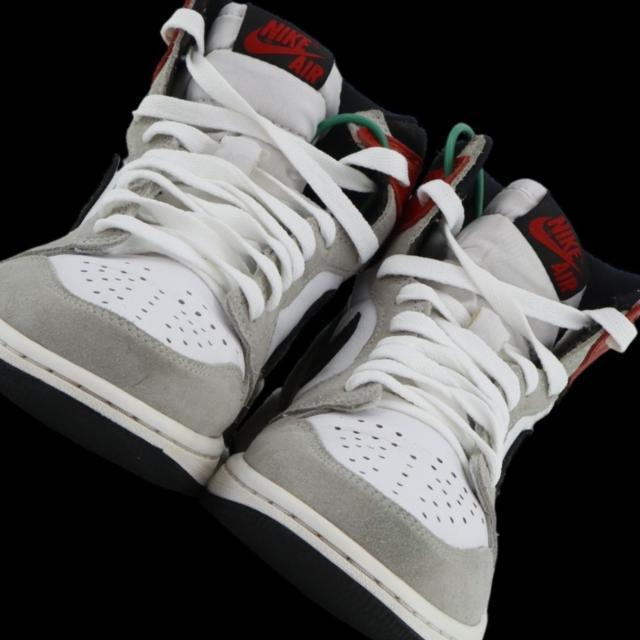nike original jordan 1: (166, 106, 640, 640), (0, 0, 467, 530)
